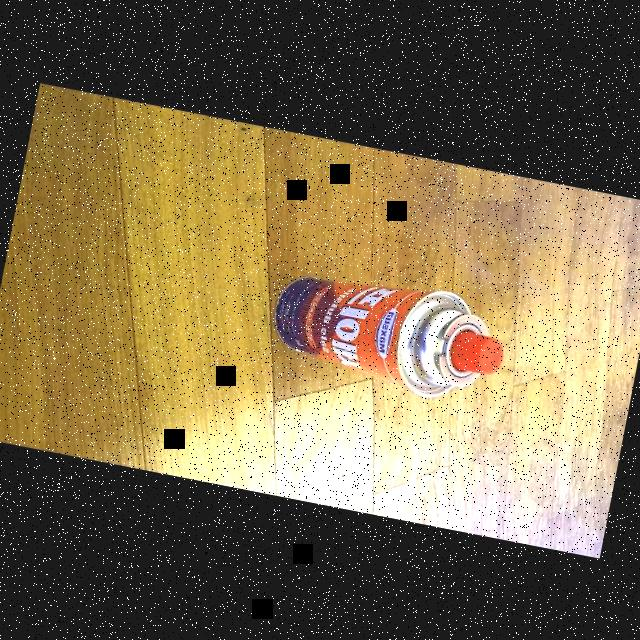chemical_spray_can: (252, 248, 528, 416)
